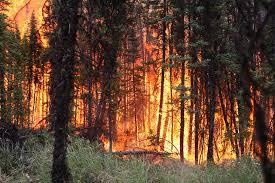fire: (129, 28, 273, 167), (0, 1, 61, 132), (0, 0, 56, 41)
